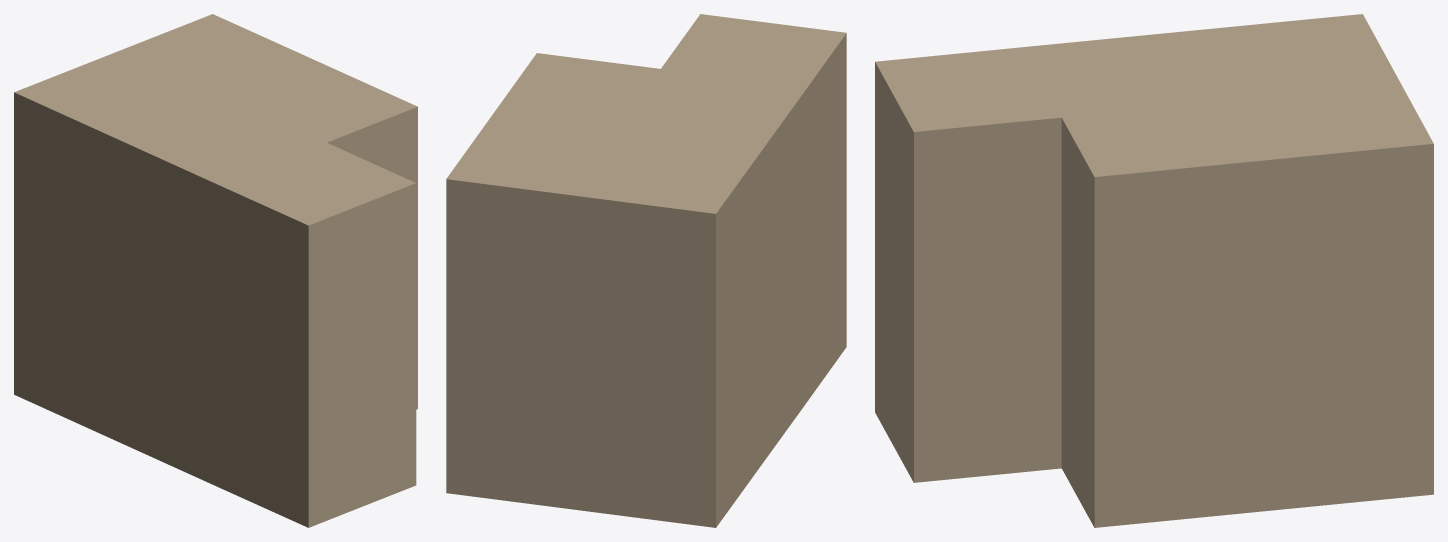
File: bld_106456219.dae
3 views of the same model, side by side, from view 1: azimuth 30°, elevation 25°; view 2: azimuth 150°, elevation 25°; view 3: azimuth 270°, elevation 25° (orthographic). The views are drawn at different scales.
Visible parts, largest first — view 1: bld_106456219; view 2: bld_106456219; view 3: bld_106456219.
Part boxes in pixels (<box>): bld_106456219: <box>14,14,417,527</box>; bld_106456219: <box>446,14,846,527</box>; bld_106456219: <box>875,14,1433,527</box>.
Bounding box in the file's own units: 7.98 × 11.55 × 8.
